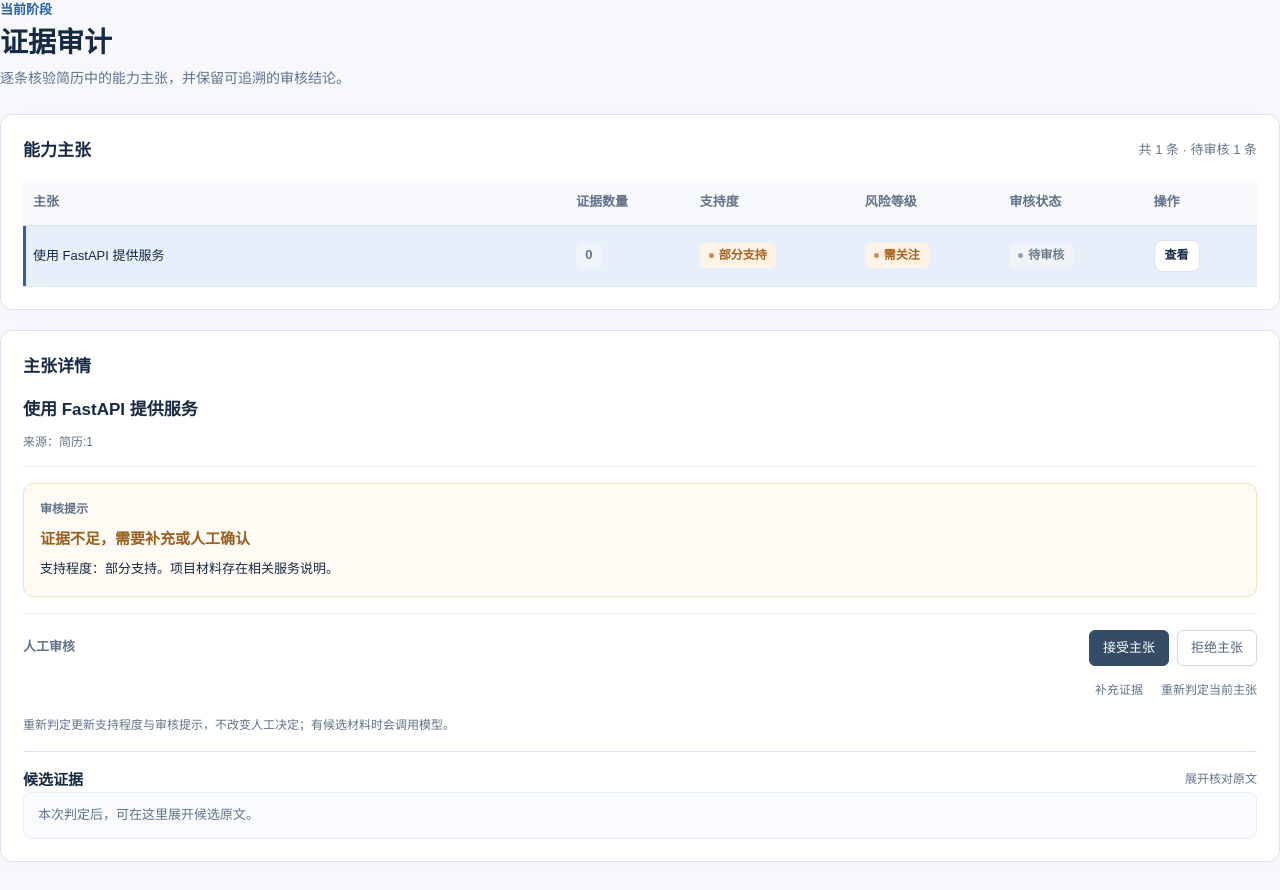
Test: 长证据默认折叠，风险与审核操作在原文之前且仍需确认风险
Click the button "重新判定当前主张": x=1209, y=691 x1=1161 y1=676 x2=1257 y2=706
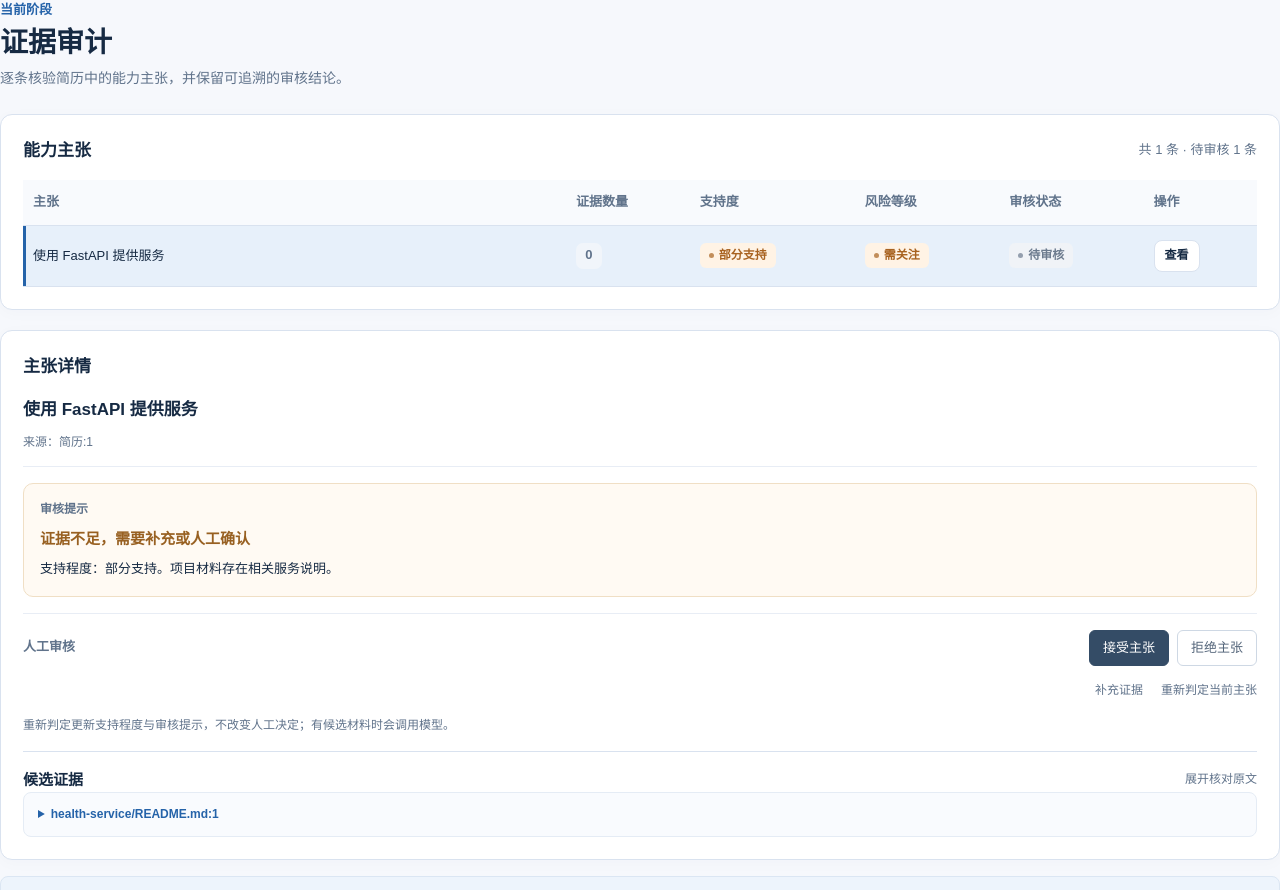
Expected: the text "证据不足，需要补充或人工确认" is shown, x1=40 y1=530 x2=250 y2=547
Click the button "接受主张": x=1129, y=648 x1=1089 y1=630 x2=1169 y2=666
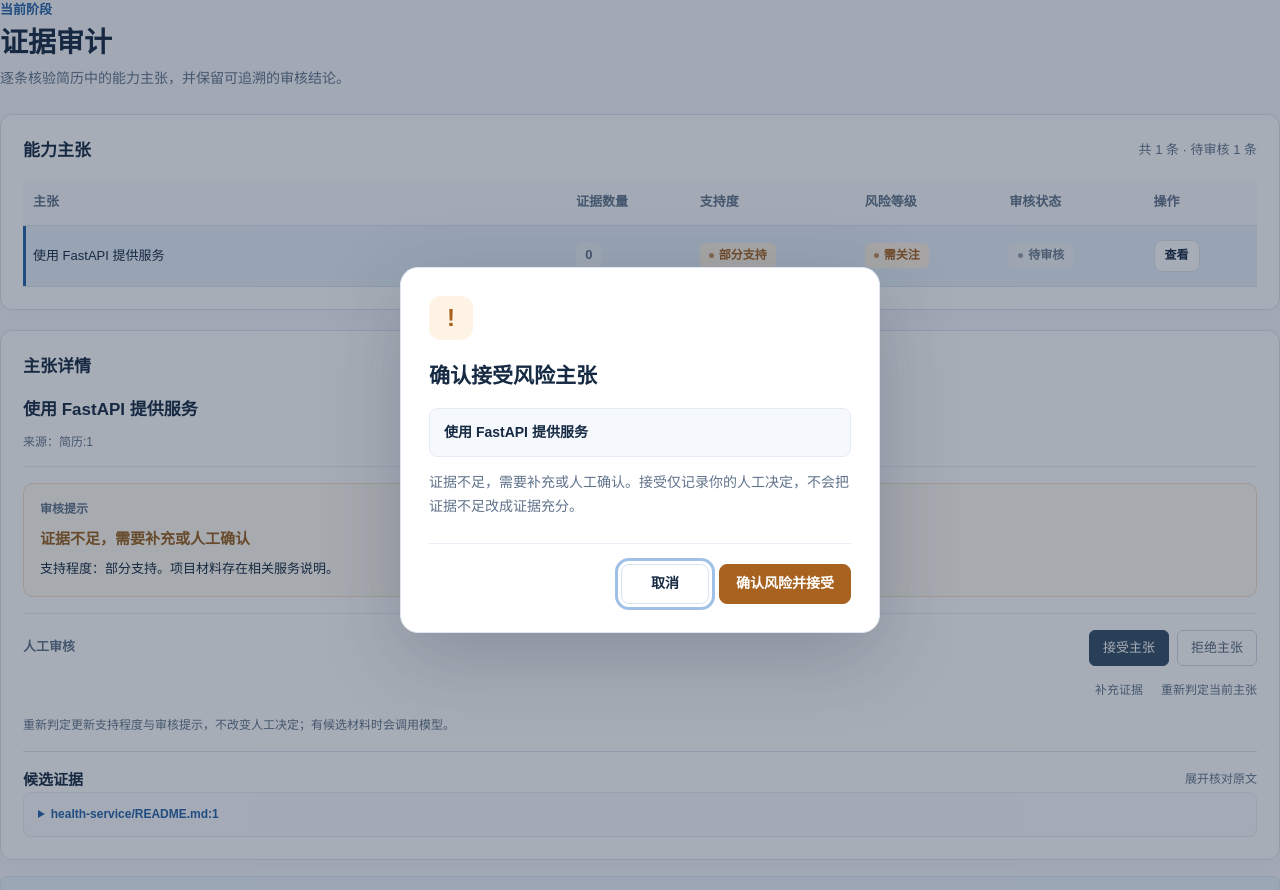
Result: the dialog "确认接受风险主张" is shown at x1=400 y1=267 x2=880 y2=633
